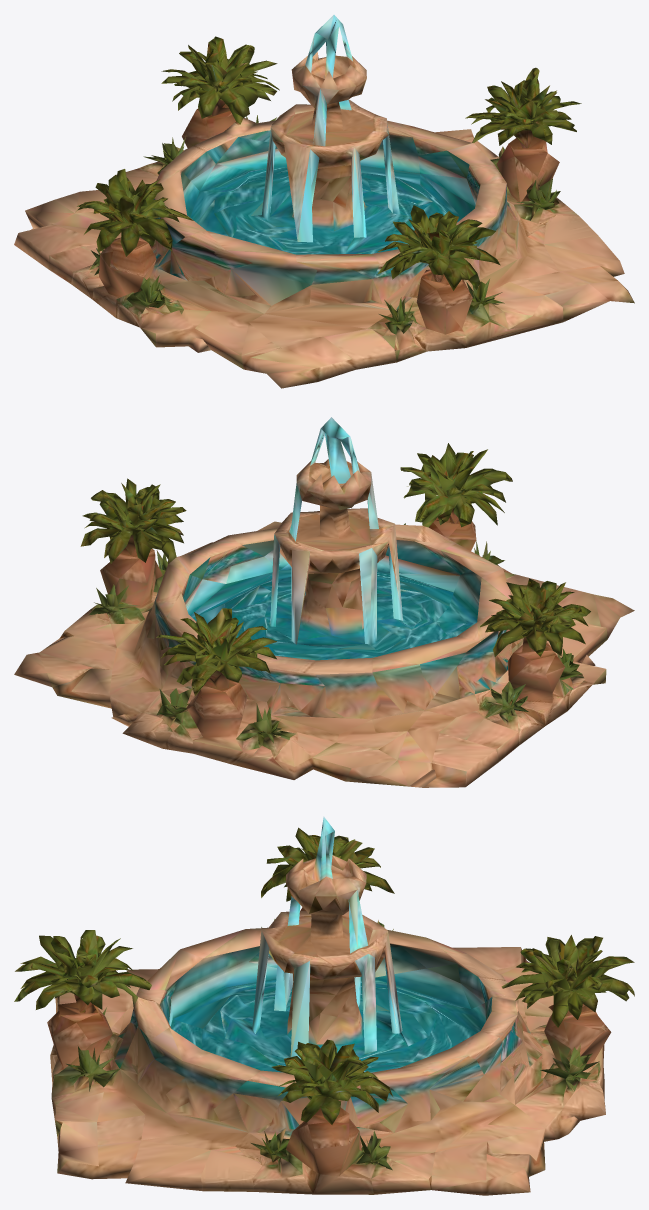
The model's file is fountain.glb.
3 renders of one model, top to bottom at view 1: azimuth 30°, elevation 25°; view 2: azimuth 150°, elevation 25°; view 3: azimuth 270°, elevation 25°, orthographic. The views are drawn at different scales.
Parts seen in each view (by area): view 1: fountain; view 2: fountain; view 3: fountain.
Boxes of the visible parts, x1=… form: fountain: x1=14, y1=15, x2=634, y2=388; fountain: x1=14, y1=417, x2=634, y2=787; fountain: x1=14, y1=816, x2=634, y2=1195.
Size of the model in its own units: 1.86 by 0.8902 by 1.89.
Materials: 1 (1 with a texture image).
